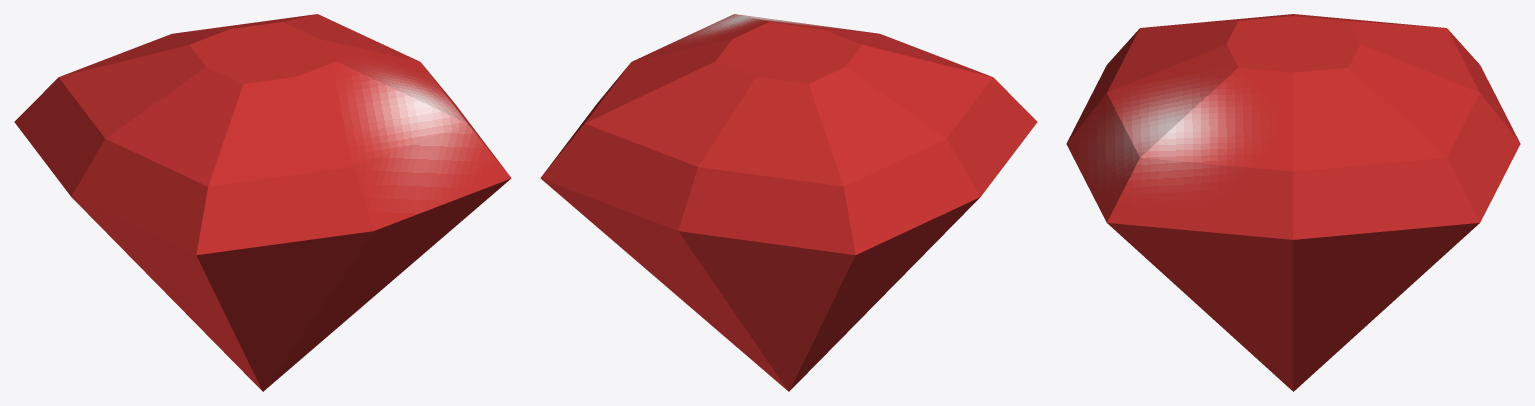
Rendered from Gem.fbx.
The picture shows the model from 3 angles, left to right: view 1: azimuth 30°, elevation 25°; view 2: azimuth 150°, elevation 25°; view 3: azimuth 270°, elevation 25°; orthographic projection. The views are drawn at different scales.
Visible parts, largest first — view 1: Gem; view 2: Gem; view 3: Gem.
Boxes of the visible parts, box(x1,y1,x2,y2) form: Gem: box(14, 14, 511, 391); Gem: box(540, 14, 1037, 391); Gem: box(1066, 14, 1520, 391).
Bounding box in the file's own units: 172 × 146 × 172.
